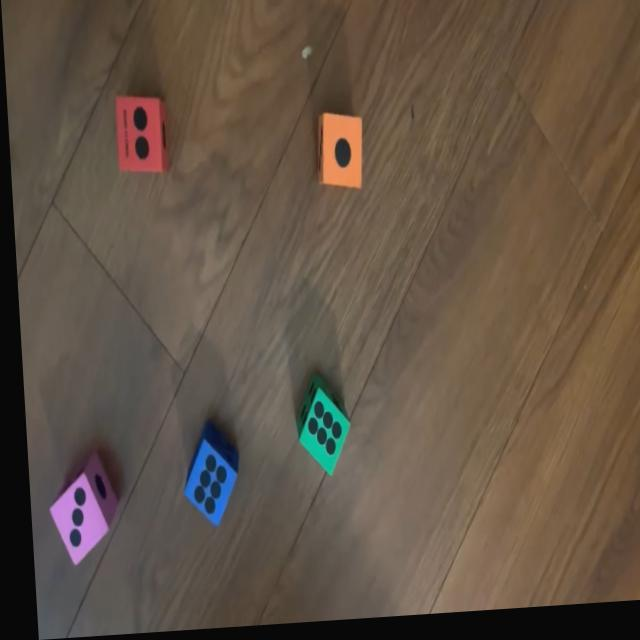blue_block: (173, 430, 235, 531)
red_block: (113, 94, 168, 176)
